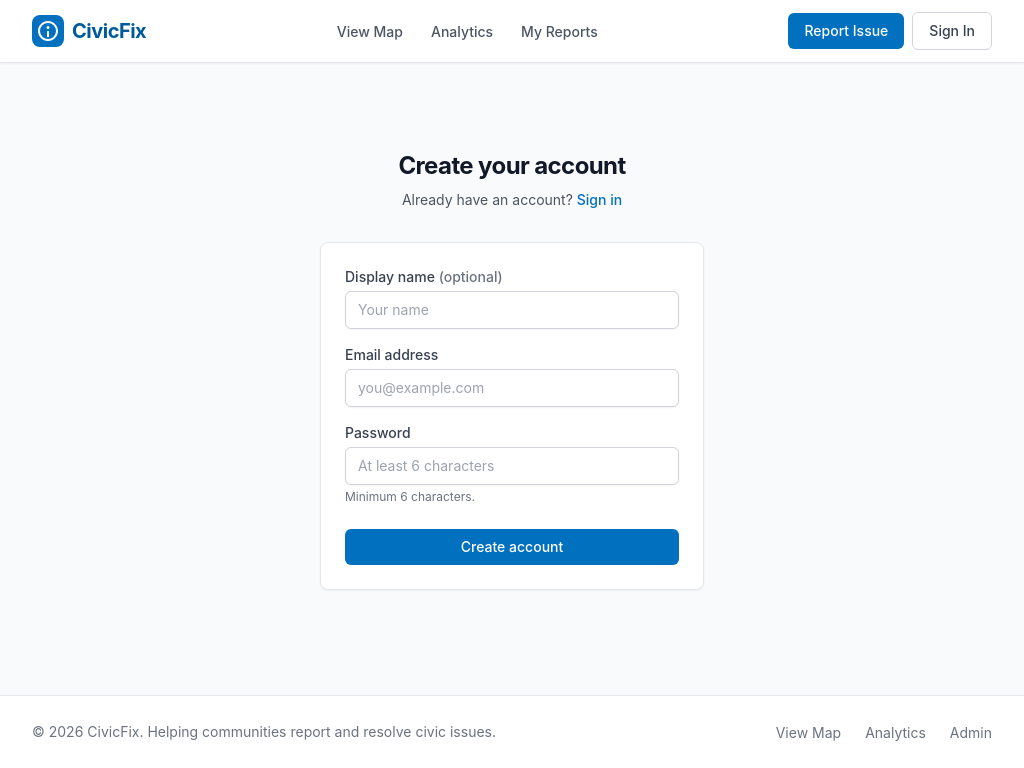
it: Citizen authentication › validates password length on sign-up
In the field labelled "Email address": (512,388) [345,369,679,407], type "new@example.com"
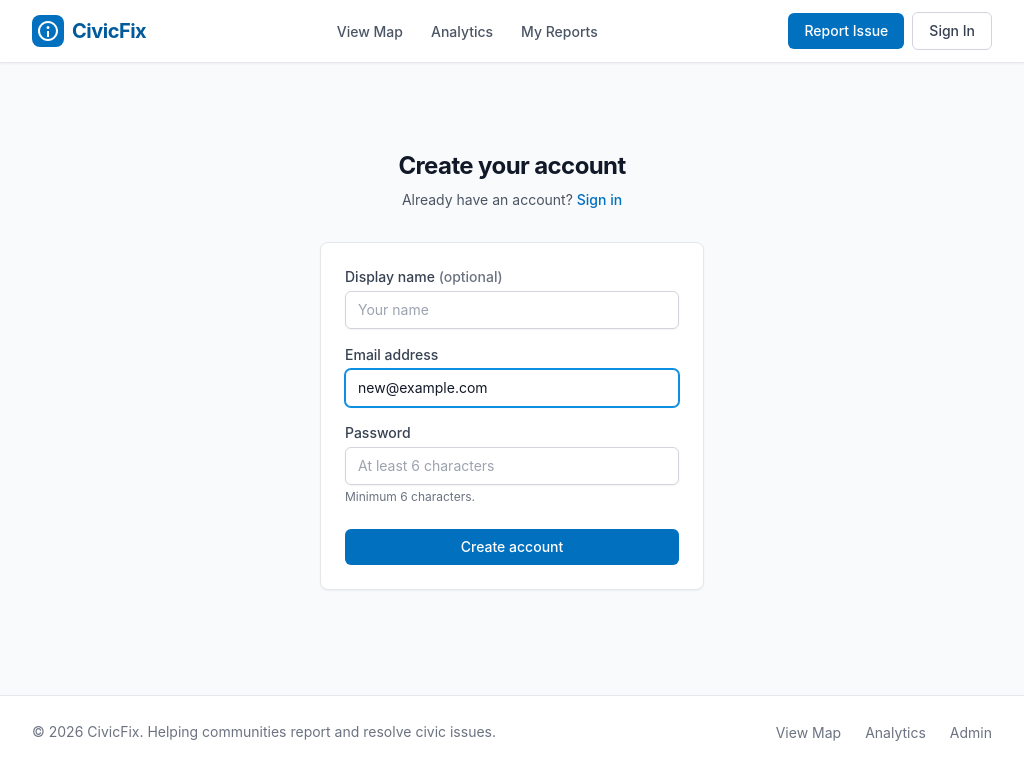
In the password field labelled "Password": (512,466) [345,447,679,485], type "123"
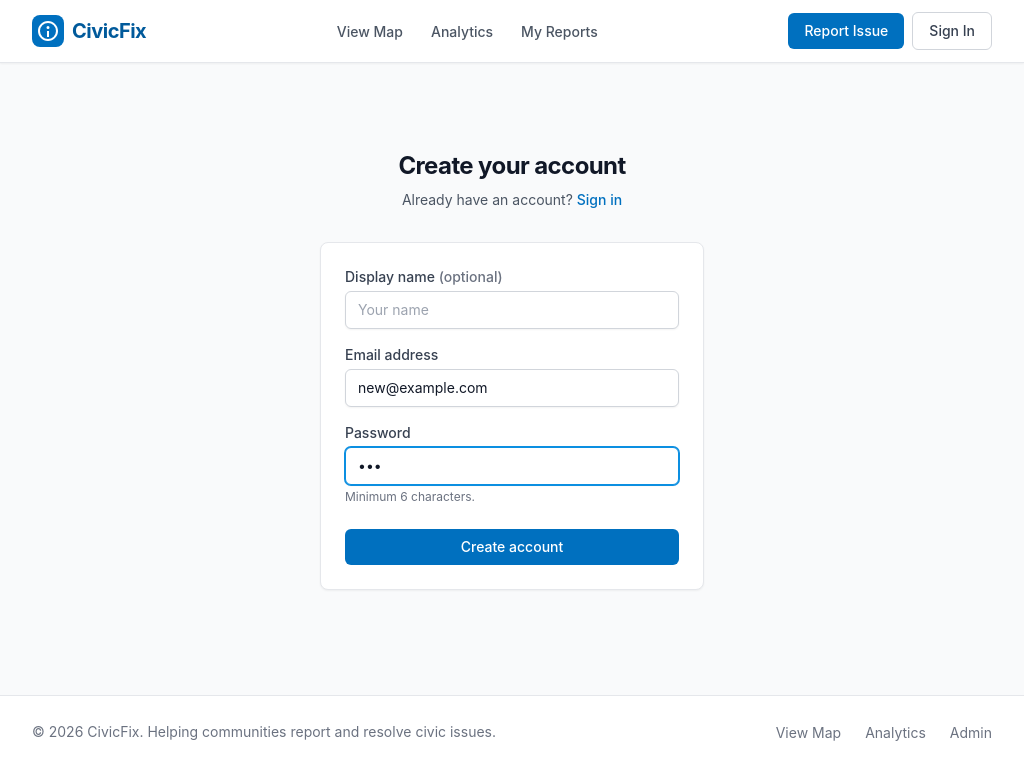
Click the button "Create account": (512,547) [345,529,679,565]
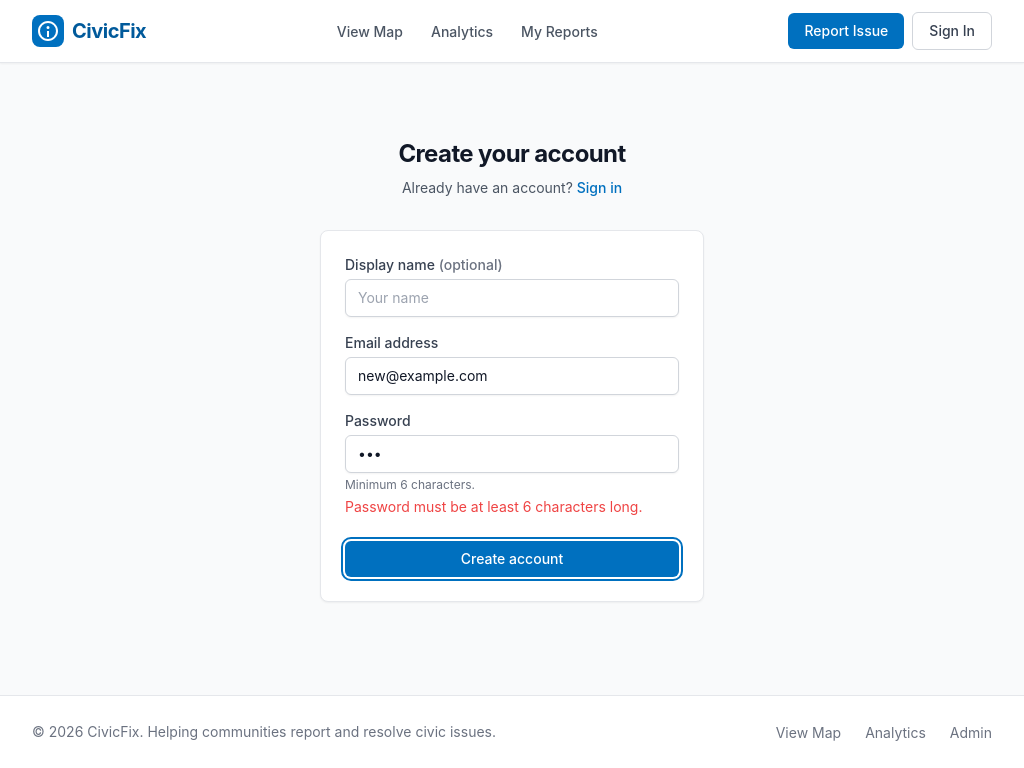
Expected: the text "Password must be at least 6 characters long." is shown, [345,497,679,517]
